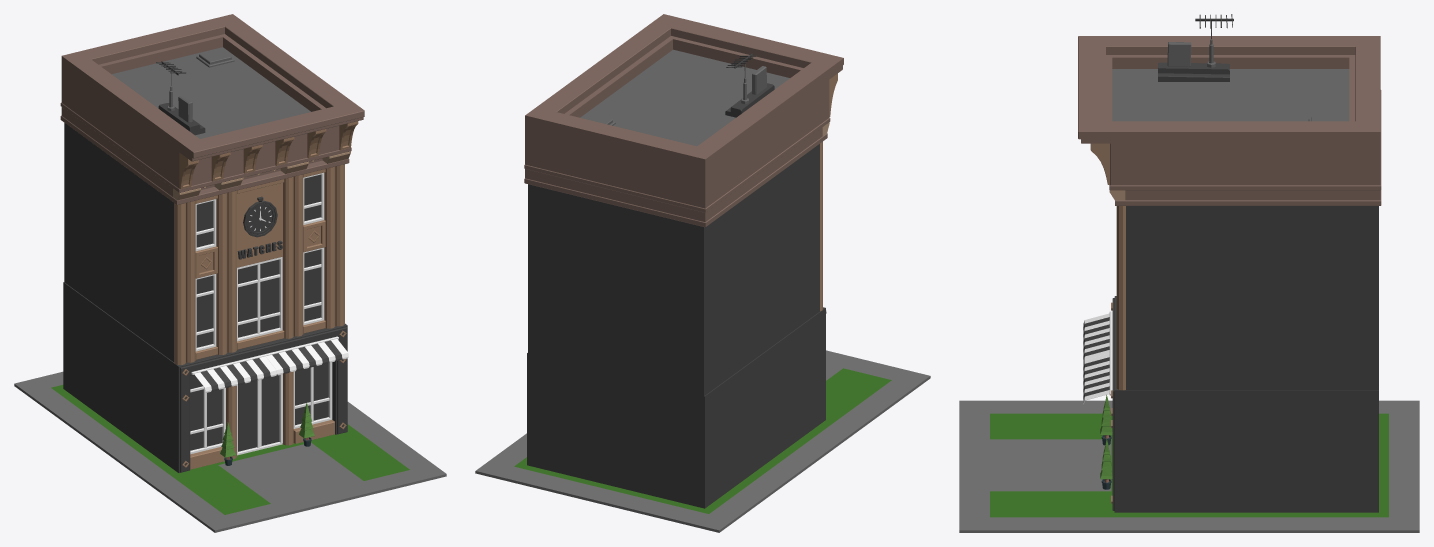
The model's file is watches.glb.
The picture shows the model from 3 angles, left to right: view 1: azimuth 30°, elevation 25°; view 2: azimuth 150°, elevation 25°; view 3: azimuth 270°, elevation 25°; orthographic projection. The views are drawn at different scales.
Visible parts, largest first — view 1: watches; view 2: watches; view 3: watches.
Boxes of the visible parts, box(x1,y1,x2,y2) form: watches: box(14, 14, 446, 532); watches: box(475, 14, 930, 532); watches: box(959, 14, 1419, 532).
Bounding box in the file's own units: 10 × 15.21 × 15.
1 material, 1 textured.
